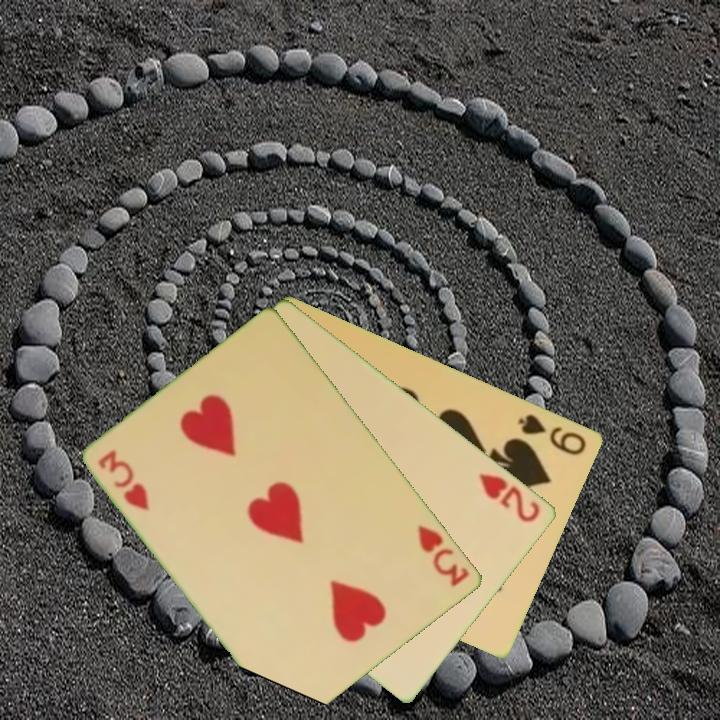2h: (476, 469, 544, 526)
3h: (414, 520, 473, 590), (95, 446, 153, 514)
9s: (515, 410, 590, 459)
